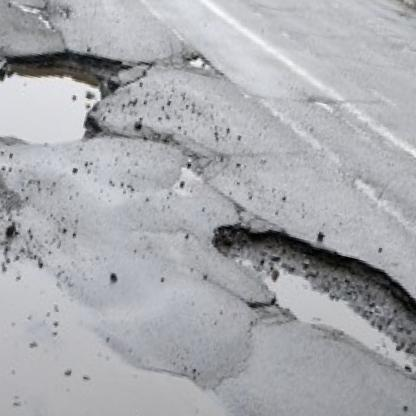pothole: (191, 215, 416, 387), (0, 24, 127, 163), (185, 49, 221, 74)
